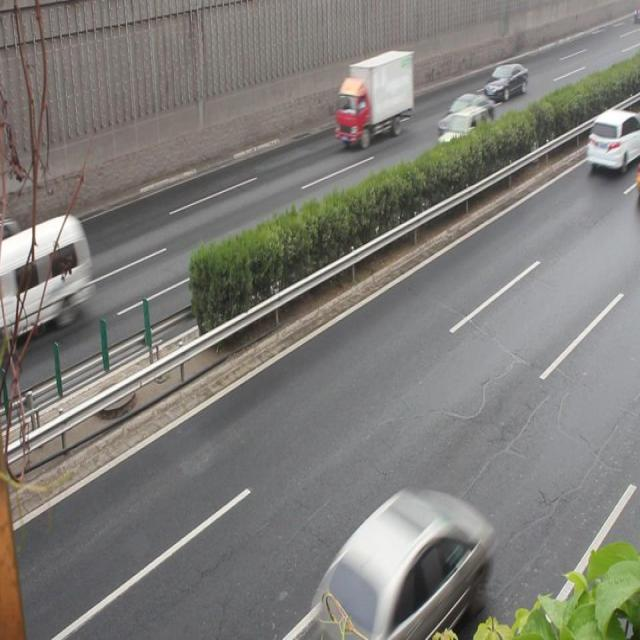bus: (334, 49, 413, 145)
car: (313, 489, 488, 640), (586, 108, 640, 172), (436, 93, 493, 143), (436, 107, 488, 161), (483, 63, 526, 105)
truck: (1, 214, 90, 342)
